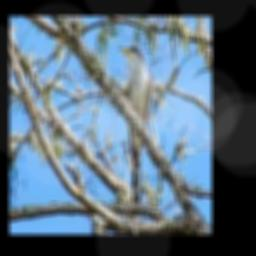Cuckoo: (119, 46, 152, 207)
